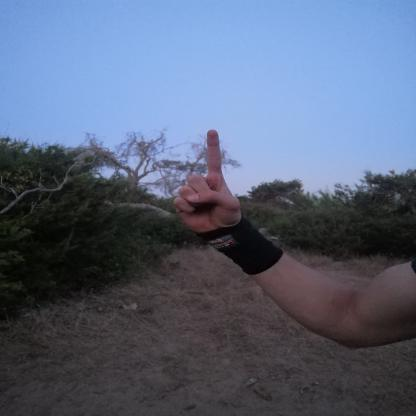BAA: (164, 120, 250, 244)
